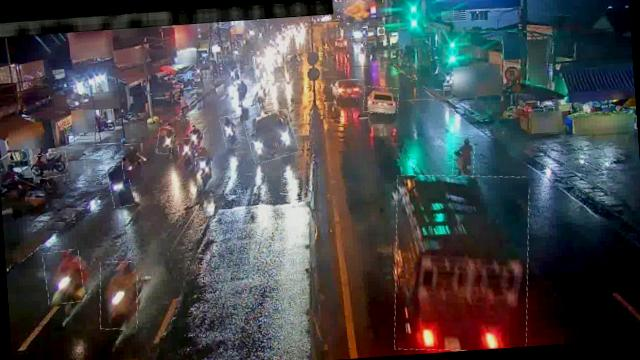Bike: (97, 260, 140, 330), (43, 248, 85, 304), (450, 134, 476, 182), (107, 164, 133, 208), (31, 152, 68, 178), (120, 143, 144, 179), (221, 114, 240, 148), (195, 156, 213, 190), (232, 79, 252, 108), (156, 126, 174, 154), (178, 137, 194, 166), (252, 82, 268, 106), (190, 127, 204, 150), (294, 93, 294, 94)
Car: (245, 111, 297, 162), (362, 85, 399, 114), (332, 79, 361, 103)
Truck: (386, 168, 536, 354)
